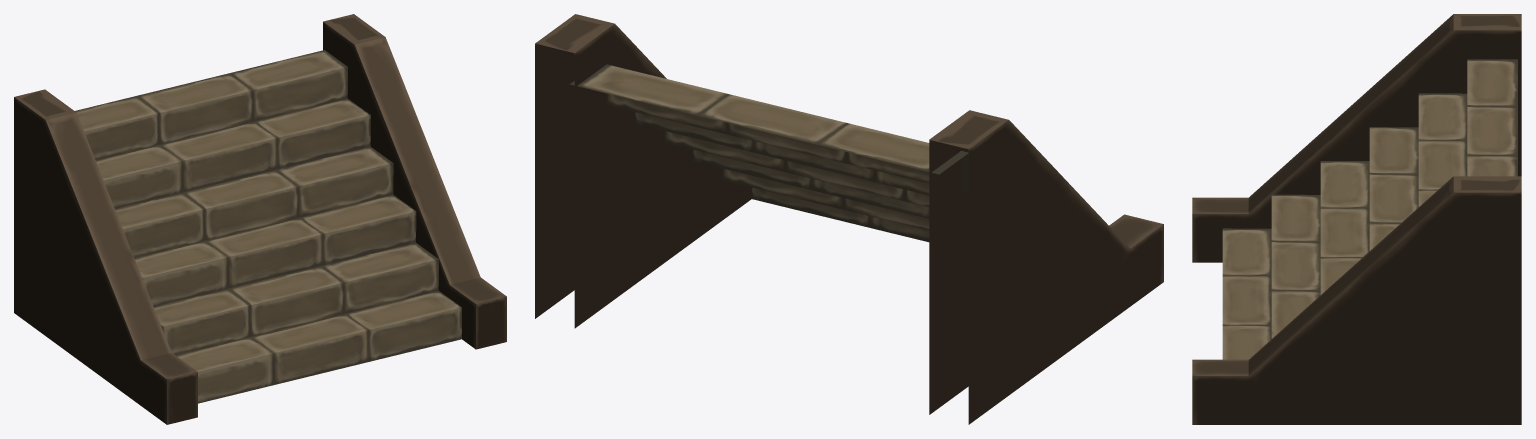
File: Stairs_Default.fbx
The picture shows the model from 3 angles, left to right: view 1: azimuth 30°, elevation 25°; view 2: azimuth 150°, elevation 25°; view 3: azimuth 270°, elevation 25°; orthographic projection. The views are drawn at different scales.
Visible parts, largest first — view 1: Stairs_default; view 2: Stairs_default; view 3: Stairs_default.
Boxes of the visible parts, x1,y1,x2,y2 form: Stairs_default: [14, 14, 506, 424]; Stairs_default: [535, 14, 1163, 424]; Stairs_default: [1192, 14, 1521, 424].
Size of the model in its own units: 287 by 175 by 224.
